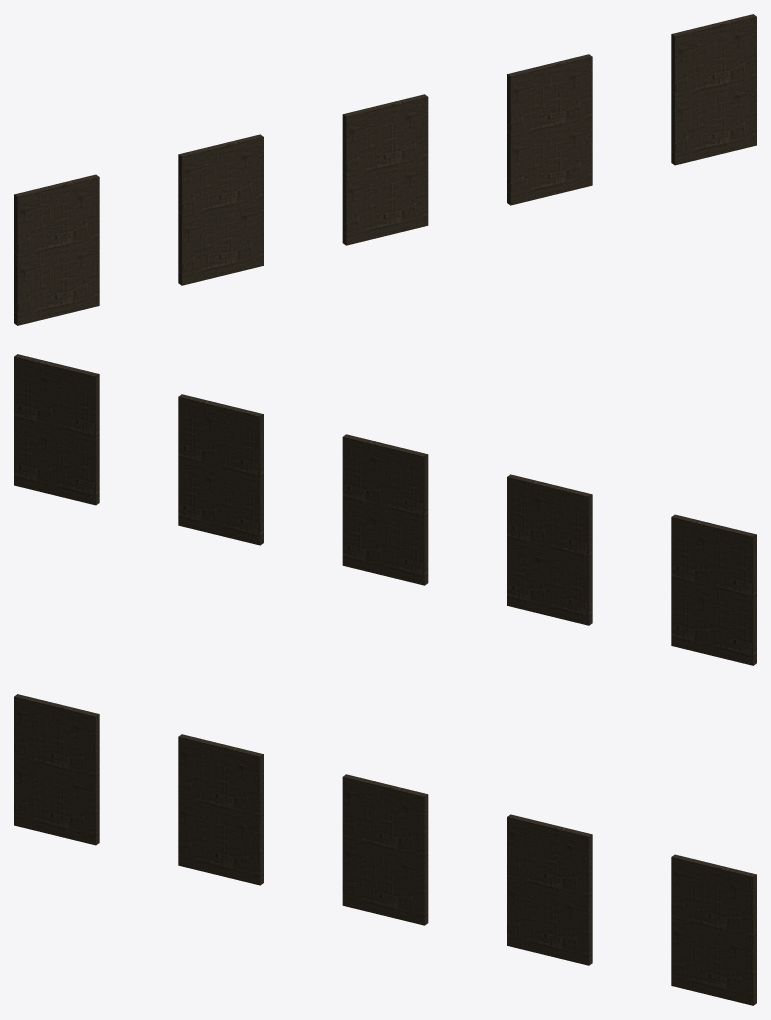
File: divided wall.fbx
The picture shows the model from 3 angles, top to bottom: view 1: azimuth 30°, elevation 25°; view 2: azimuth 150°, elevation 25°; view 3: azimuth 330°, elevation 25°; orthographic projection.
Parts seen in each view (by area): view 1: divided wall.001, divided wall, divided wall.003, divided wall.002, divided wall.004; view 2: divided wall.001, divided wall, divided wall.003, divided wall.002, divided wall.004; view 3: divided wall.001, divided wall, divided wall.003, divided wall.002, divided wall.004.
Part boxes in pixels (bbox=[...]): divided wall.001: bbox=[342, 94, 428, 245]; divided wall: bbox=[671, 14, 756, 165]; divided wall.003: bbox=[14, 174, 99, 325]; divided wall.002: bbox=[507, 54, 592, 205]; divided wall.004: bbox=[178, 134, 263, 285]; divided wall.001: bbox=[342, 434, 428, 585]; divided wall: bbox=[14, 354, 99, 505]; divided wall.003: bbox=[671, 514, 756, 665]; divided wall.002: bbox=[178, 394, 263, 545]; divided wall.004: bbox=[507, 474, 592, 625]; divided wall.001: bbox=[342, 774, 428, 925]; divided wall: bbox=[671, 854, 756, 1005]; divided wall.003: bbox=[14, 694, 99, 845]; divided wall.002: bbox=[507, 814, 592, 965]; divided wall.004: bbox=[178, 734, 263, 885].
Size of the model in its own units: 2403 by 400 by 20.
